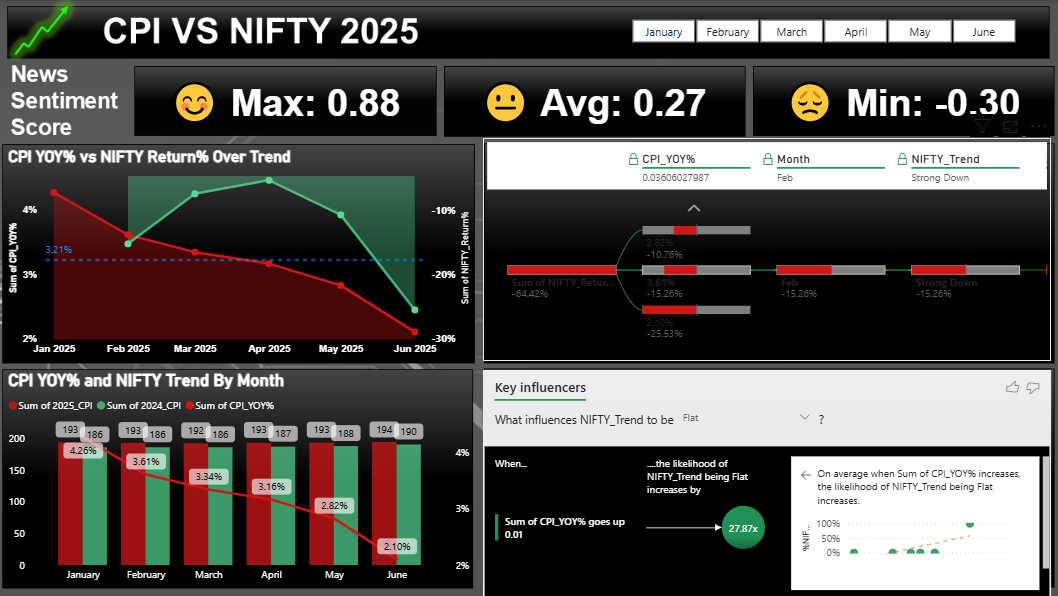

This screenshot's page, from the dashboard's own definition file:
{"tool":"powerbi","page":{"name":"CPI vs NIFTY Dashboard","canvas":[1280,720],"ordinal":0},"visuals":[{"type":"card","fields":{"Values":["News_Sentiment.Max_Sentiment_Emoji"]},"box":[166.2,75.9,362.4,90.3],"z":0},{"type":"card","fields":{"Values":["News_Sentiment.Avg_Sentiment_Emoji"]},"box":[537,75.9,363.6,90.3],"z":1},{"type":"card","fields":{"Values":["News_Sentiment.Min_Sentiment_Emoji"]},"box":[911.1,75.7,359.2,90.8],"z":2},{"type":"lineChart","title":"CPI YOY% vs NIFTY Return% Over Trend","fields":{"Y":["Sum(CPI vs NIFTY 2025.CPI_YOY%)"],"Y2":["Sum(CPI vs NIFTY 2025.NIFTY_Return%)"],"Category":["CPI vs NIFTY 2025.Month_Date.Variation.Date Hierarchy.Year","CPI vs NIFTY 2025.Month_Date.Variation.Date Hierarchy.Quarter","CPI vs NIFTY 2025.Month_Date.Variation.Date Hierarchy.Month","CPI vs NIFTY 2025.Month_Date.Variation.Date Hierarchy.Day"]},"box":[9.6,177.5,565.7,258.8],"z":3},{"type":"keyDriversVisual","fields":{"ExplainBy":["Sum(CPI vs NIFTY 2025.CPI_YOY%)"],"Target":["CPI vs NIFTY 2025.NIFTY_Trend"]},"box":[586,445,684,275],"z":4},{"type":"decompositionTreeVisual","fields":{"Analyze":["Sum(CPI vs NIFTY 2025.NIFTY_Return%)"],"ExplainBy":["CPI vs NIFTY 2025.CPI_YOY%","CPI vs NIFTY 2025.Month","CPI vs NIFTY 2025.NIFTY_Trend","CPI vs NIFTY 2025.2025_CPI"]},"box":[586.3,166.5,684,268.4],"z":5},{"type":"lineClusteredColumnComboChart","title":"CPI YOY% and NIFTY Trend By Month","fields":{"Y":["Sum(CPI vs NIFTY 2025.2025_CPI)","Sum(CPI vs NIFTY 2025.2024_CPI)"],"Y2":["Sum(CPI vs NIFTY 2025.CPI_YOY%)"],"Category":["CPI vs NIFTY 2025.Month_Date.Variation.Date Hierarchy.Month"]},"box":[9.6,445.5,565.9,264.9],"z":6},{"type":"slicer","fields":{"Values":["CPI vs NIFTY 2025.Month_Date.Variation.Date Hierarchy.Month"]},"box":[740.5,16.5,510.6,37.2],"z":8}]}

Visuals, with their boxes in screenshot pixels (x1, y1, x2, y2), scaled from the page's 1280x720 canvas onto the 1058x596 screenshot:
card - News_Sentiment.Max_Sentiment_Emoji: 137,63,437,138
card - News_Sentiment.Avg_Sentiment_Emoji: 444,63,744,138
card - News_Sentiment.Min_Sentiment_Emoji: 753,63,1050,138
"CPI YOY% vs NIFTY Return% Over Trend" lineChart: 8,147,476,361
keyDriversVisual - Sum(CPI vs NIFTY 2025.CPI_YOY%) x CPI vs NIFTY 2025.NIFTY_Trend: 484,368,1050,595
decompositionTreeVisual - Sum(CPI vs NIFTY 2025.NIFTY_Return%) x CPI vs NIFTY 2025.CPI_YOY%: 485,138,1050,360
"CPI YOY% and NIFTY Trend By Month" lineClusteredColumnComboChart: 8,369,476,588
slicer - CPI vs NIFTY 2025.Month_Date.Variation.Date Hierarchy.Month: 612,14,1034,44
